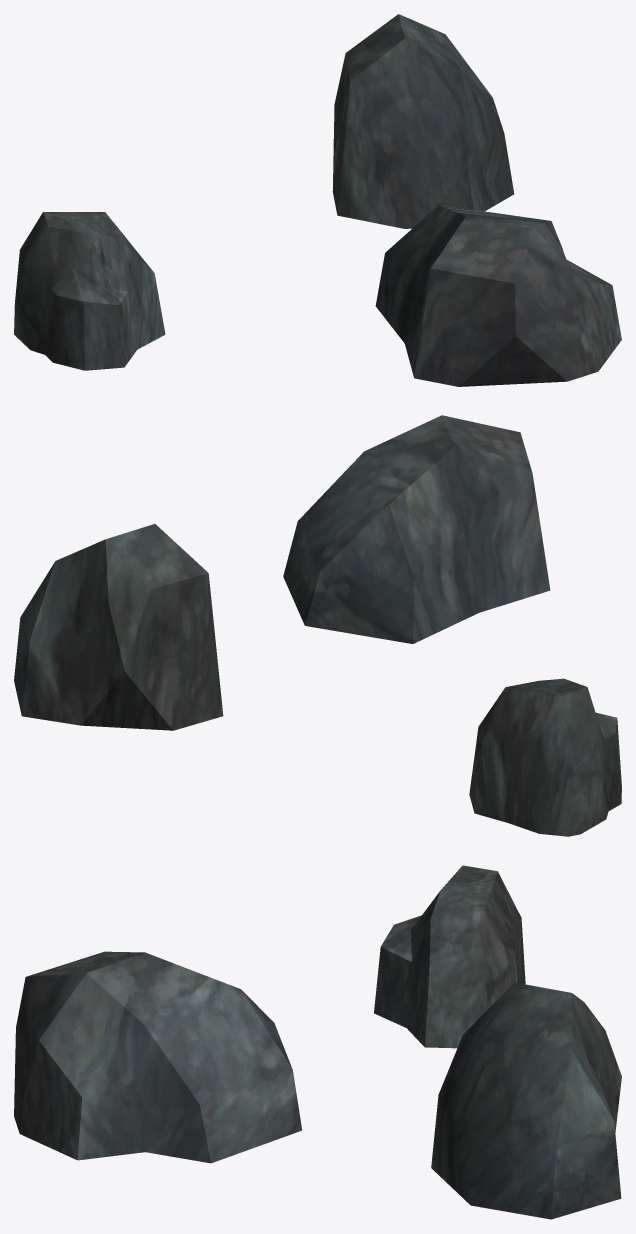
The model's file is object_rubble04.fbx.
3 renders of one model, top to bottom at view 1: azimuth 30°, elevation 25°; view 2: azimuth 150°, elevation 25°; view 3: azimuth 270°, elevation 25°, orthographic. The views are drawn at different scales.
Visible parts, largest first — view 1: Material_#238683587/cliffside; view 2: Material_#238683587/cliffside; view 3: Material_#238683587/cliffside.
Boxes of the visible parts, left/top/right/bottom form: Material_#238683587/cliffside: left=14, top=14, right=621, bottom=386; Material_#238683587/cliffside: left=14, top=415, right=621, bottom=836; Material_#238683587/cliffside: left=14, top=865, right=621, bottom=1219.
Bounding box in the file's own units: 11.75 × 4.26 × 11.
